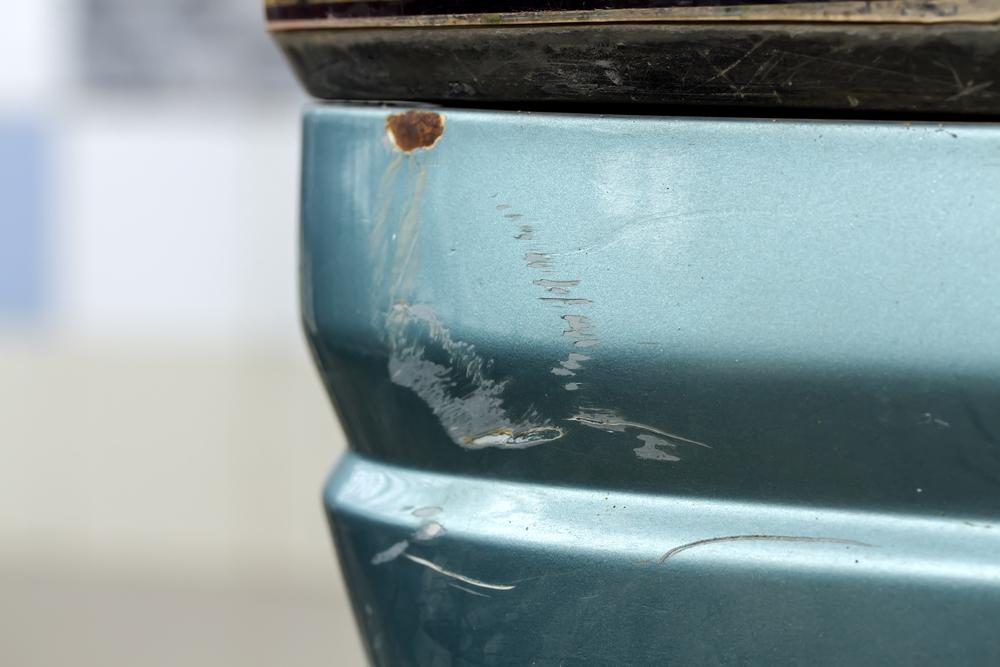scratch: (359, 146, 710, 464), (367, 498, 540, 603), (643, 528, 885, 565)
